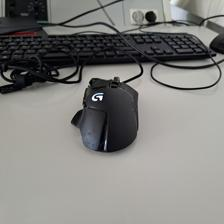mouse: (71, 75, 140, 153)
